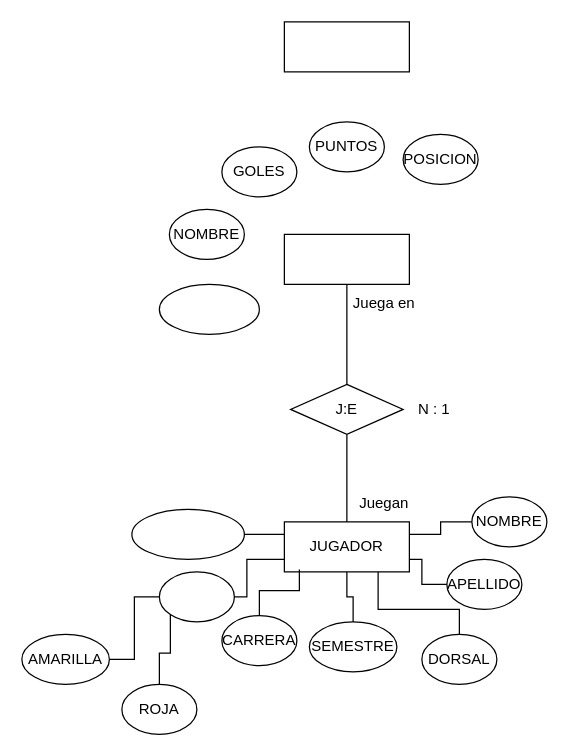
Image size: 569x756. Some labels were removed from this diagram. Each missing label, with the centre of its shape:
"DOCUMENTO" goes at (187,533).
"EQUIPO" goes at (346,258).
"ID EQUIPO" goes at (208,308).
"PARTIDO" goes at (346,46).
"TARJETAS" goes at (196,596).
